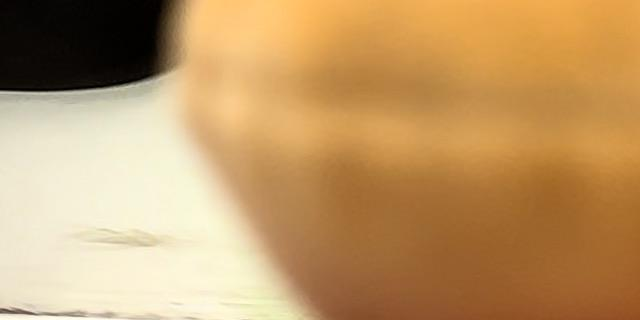burger: (165, 0, 640, 320)
